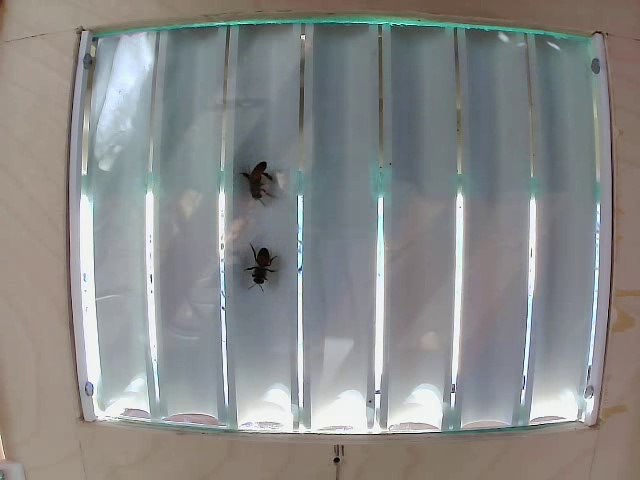bee: (240, 237, 288, 290), (233, 160, 277, 216)
